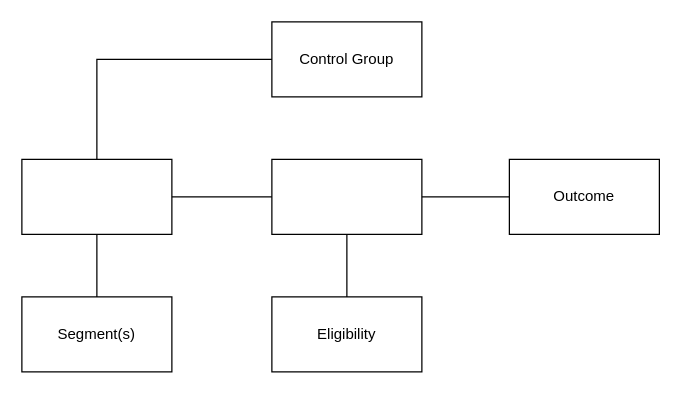
Image size: 681x394. Some labels were removed from this diagram. The shapes that lost their labels are listed below. From the top down, each one's centre as x and y in pixels, then its label:
At [96,196]: "Customer".
At [346,196]: "Experiment".
